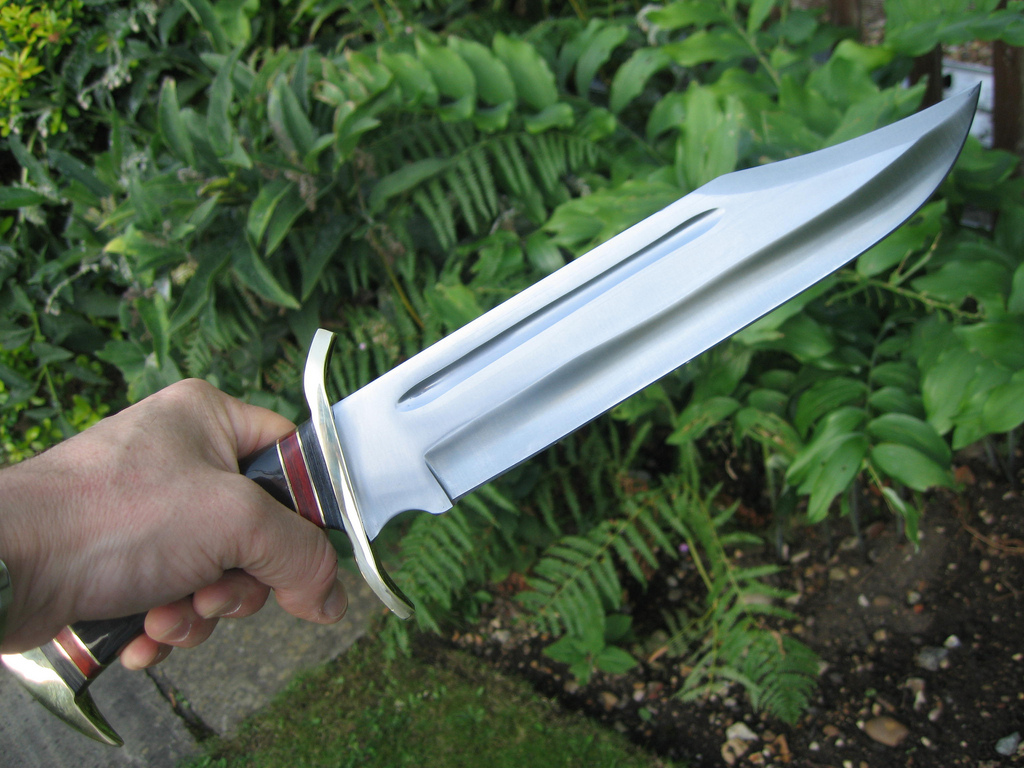knife: (174, 62, 996, 635)
